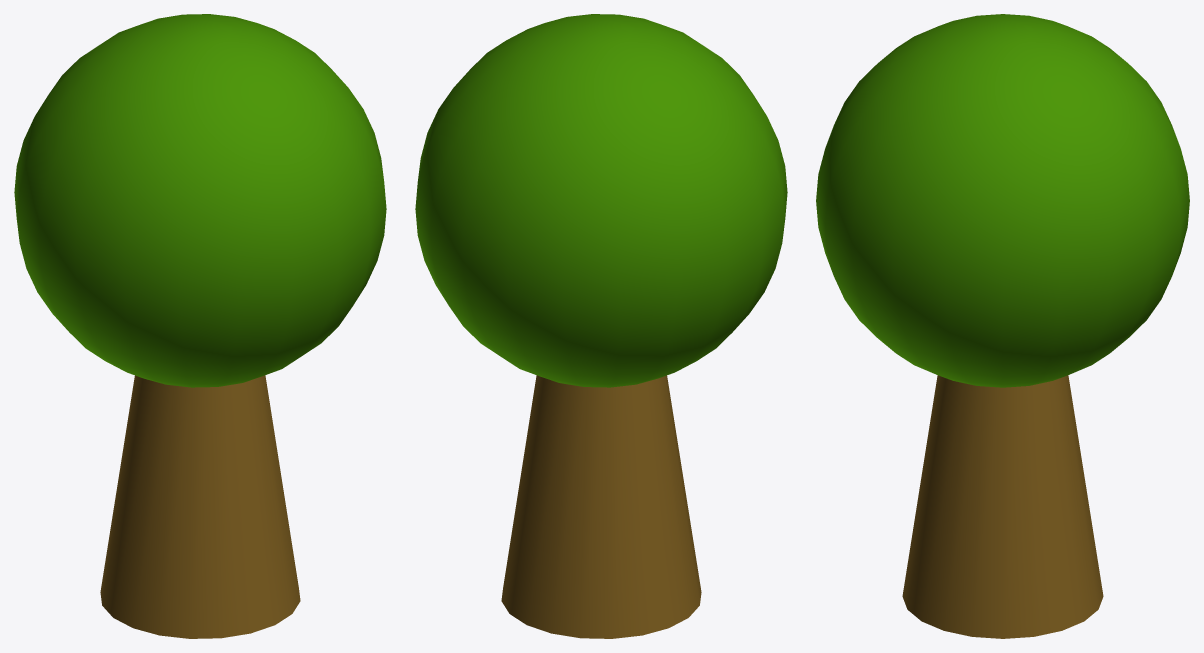
File: simpleTreeA1.fbx
The picture shows the model from 3 angles, left to right: view 1: azimuth 30°, elevation 25°; view 2: azimuth 150°, elevation 25°; view 3: azimuth 270°, elevation 25°; orthographic projection.
Visible parts, largest first — view 1: pSphere2; view 2: pSphere2; view 3: pSphere2.
Boxes of the visible parts, box(x1,y1,x2,y2) form: pSphere2: box(14, 14, 386, 638); pSphere2: box(415, 14, 787, 638); pSphere2: box(816, 14, 1189, 638).
Size of the model in its own units: 13.39 by 22.33 by 13.39.
